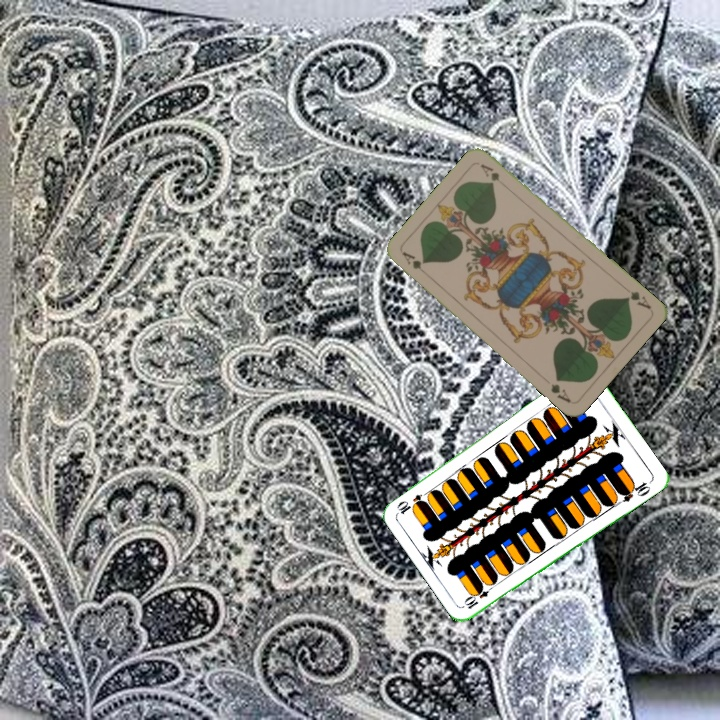E10: (460, 580, 497, 612)
GA: (622, 287, 654, 312), (398, 248, 424, 272)
